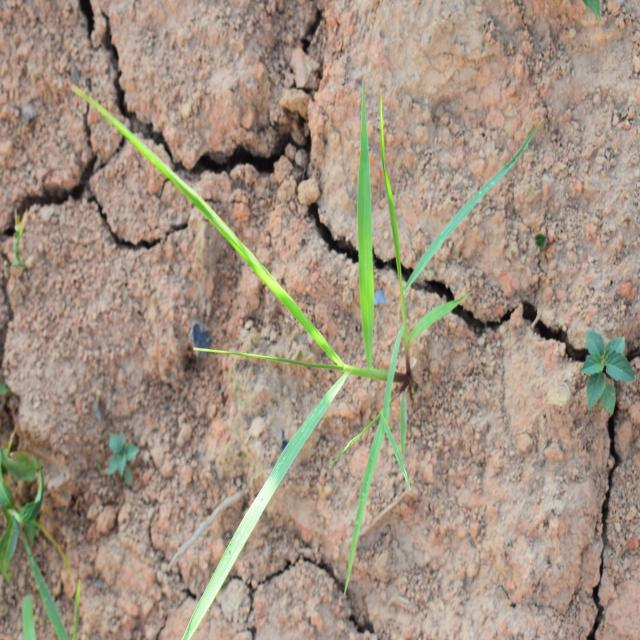green_foxtail: (132, 68, 428, 527)
